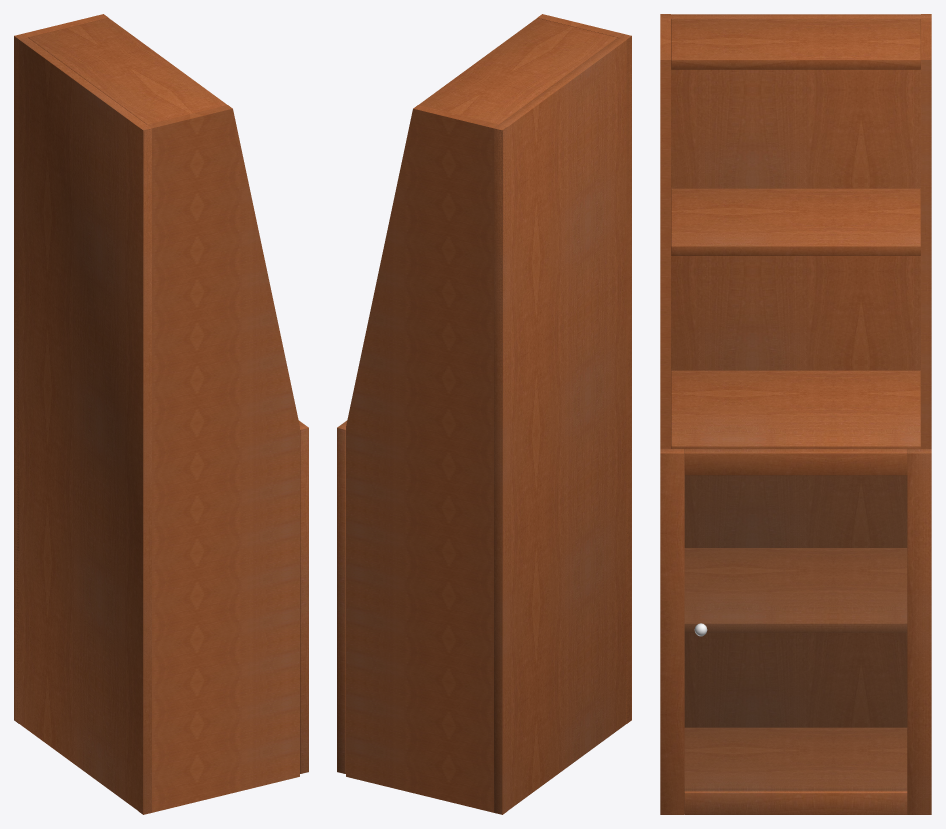
Rendered from recrj1PTJYIwr3CfR.glb.
The picture shows the model from 3 angles, left to right: view 1: azimuth 30°, elevation 25°; view 2: azimuth 150°, elevation 25°; view 3: azimuth 270°, elevation 25°; orthographic projection. The views are drawn at different scales.
Parts seen in each view (by area): view 1: etagere_hetre_chambre_Corps; view 2: etagere_hetre_chambre_Corps; view 3: etagere_hetre_chambre_Corps.
Boxes of the visible parts, <box> form: etagere_hetre_chambre_Corps: <box>14,14,308,814</box>; etagere_hetre_chambre_Corps: <box>337,14,631,814</box>; etagere_hetre_chambre_Corps: <box>660,14,931,814</box>.
Bounding box in the file's own units: 0.394 × 1.46 × 0.5.
3 materials, 1 textured.
